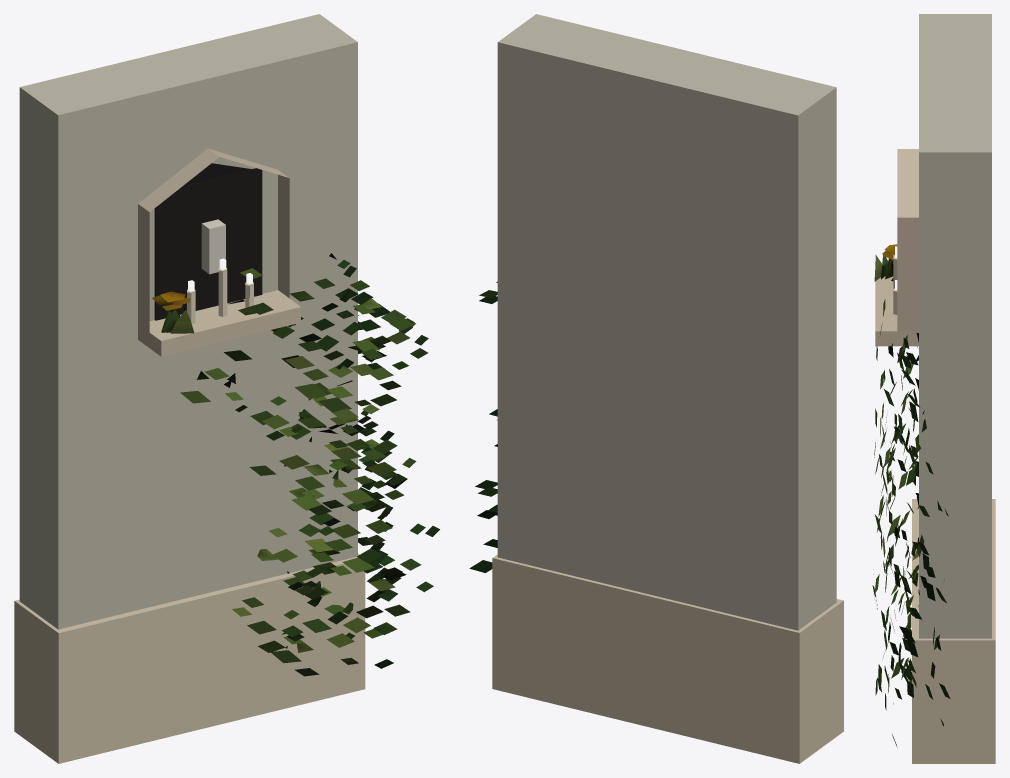
Rendered from hornacina.glb.
3 views of the same model, side by side, from view 1: azimuth 30°, elevation 25°; view 2: azimuth 150°, elevation 25°; view 3: azimuth 270°, elevation 25° (orthographic). The views are drawn at different scales.
Parts seen in each view (by area): view 1: hornacina_fijo, hornacina_vegetacion; view 2: hornacina_fijo, hornacina_vegetacion; view 3: hornacina_fijo, hornacina_vegetacion.
Boxes of the visible parts, x1,y1,x2,y2 form: hornacina_fijo: (14,14,365,763); hornacina_vegetacion: (152,253,439,676); hornacina_fijo: (492,14,843,763); hornacina_vegetacion: (469,281,497,572); hornacina_fijo: (875,14,995,763); hornacina_vegetacion: (872,244,950,747).
Size of the model in its own units: 2.25 by 3.7 by 0.6767.
